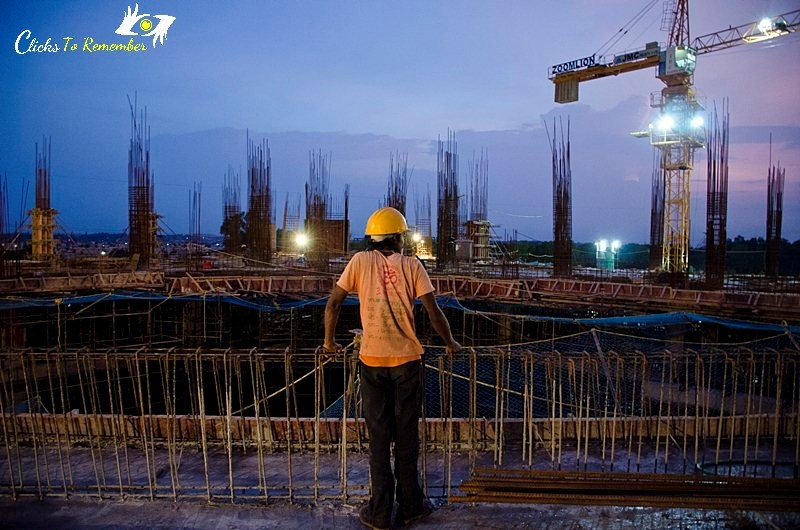yellow: (367, 206, 406, 253)
